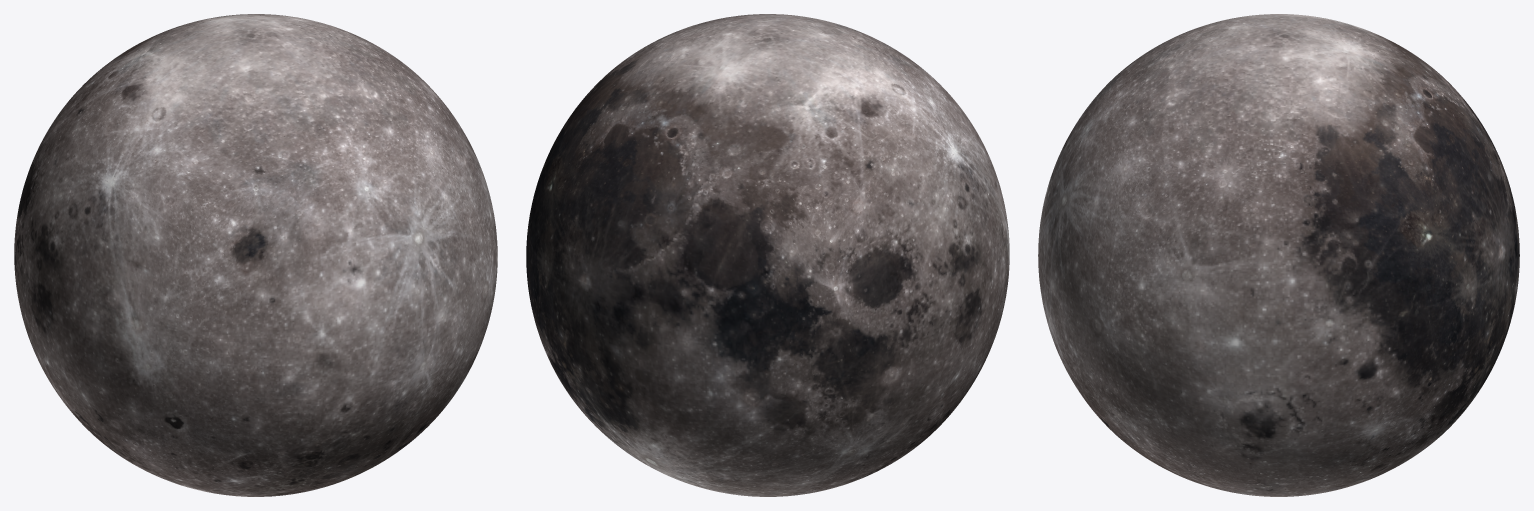
File: earth-moon-system-earth-in-space.glb
3 renders of one model, left to right at view 1: azimuth 30°, elevation 25°; view 2: azimuth 150°, elevation 25°; view 3: azimuth 270°, elevation 25°, orthographic.
Parts seen in each view (by area): view 1: Cube; view 2: Cube; view 3: Cube.
Part boxes in pixels (x1=…): Cube: x1=14, y1=14, x2=497, y2=496; Cube: x1=526, y1=14, x2=1009, y2=496; Cube: x1=1038, y1=14, x2=1519, y2=496.
Size of the model in its own units: 2.54 by 2.54 by 2.54.
1 material, 1 textured.
